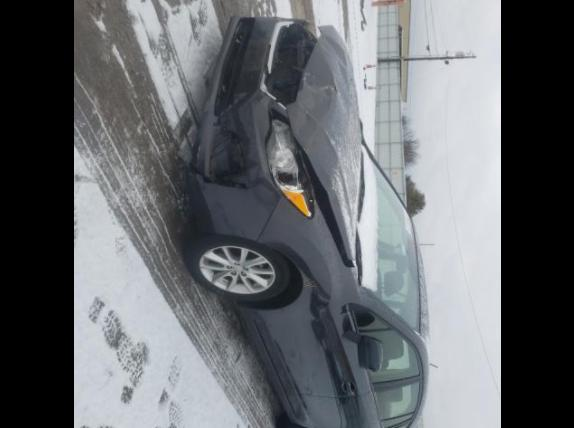Broken part: (189, 16, 305, 243), (284, 19, 361, 269)
Dent: (286, 24, 353, 194), (209, 67, 256, 168), (234, 77, 271, 193), (219, 146, 234, 176)
Flaking: (303, 279, 317, 287)
Missing part: (265, 26, 313, 103), (211, 135, 246, 186)
